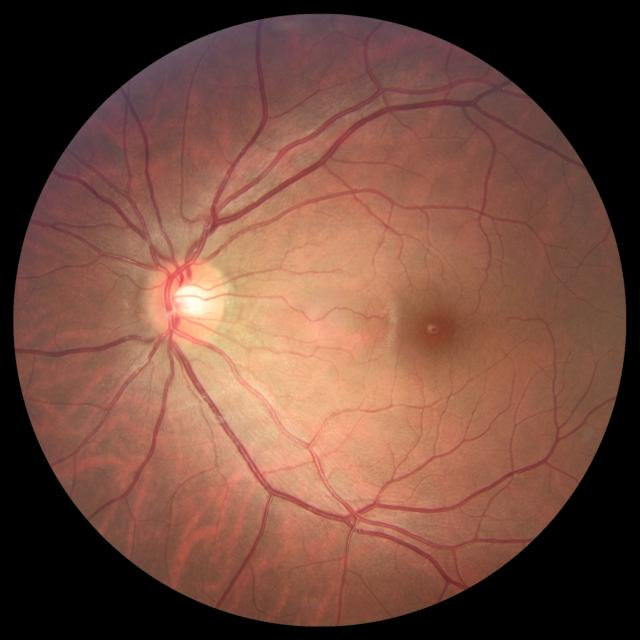OC: (171, 282, 210, 318)
OD: (145, 258, 231, 346)
